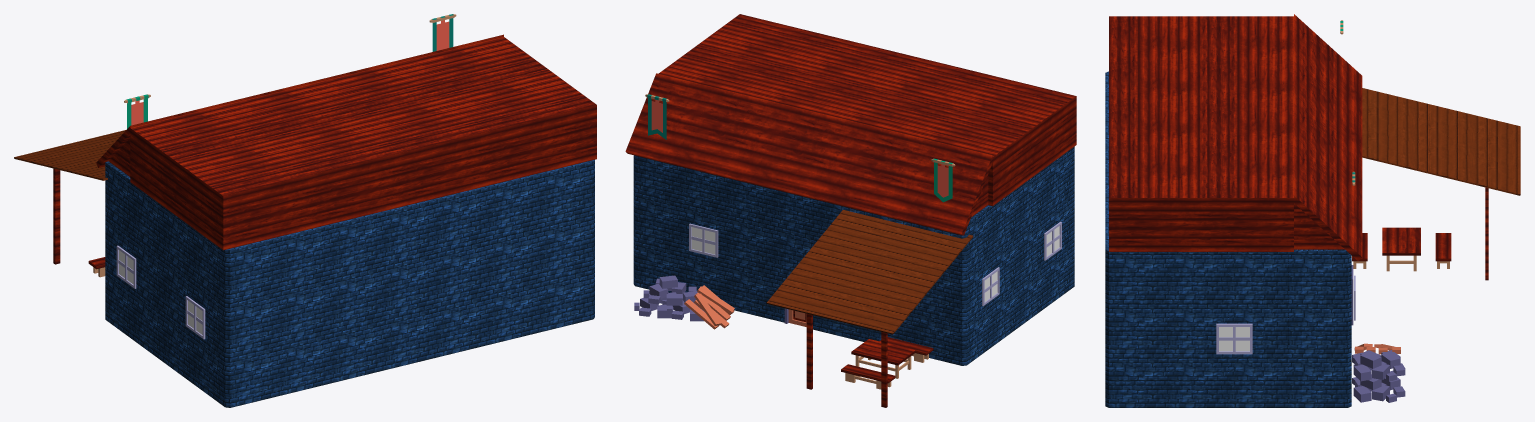
Rendered from House1.glb.
3 views of the same model, side by side, from view 1: azimuth 30°, elevation 25°; view 2: azimuth 150°, elevation 25°; view 3: azimuth 270°, elevation 25° (orthographic). The views are drawn at different scales.
Visible parts, largest first — view 1: wall (×30), block (×2), wall_corner (×3), roof_halfLarge (×2), window_wide (×2), columns_small, banner_green, banner_red; view 2: block (×2), roof_halfLarge (×3), wall (×20), wall_corner (×6), debris_stone (×3), window_wide (×3), furniture_table, debris_wood, furniture_stool (×2), columns_small, banner_green, doorway_doorWoodWindow (+1 smaller); view 3: block (×2), wall (×9), roof_halfLarge (×3), wall_corner (×3), debris_stone (×2), furniture_table, window_wide, furniture_stool.
Boxes of the visible parts, x1=… form: wall (×30): x1=135, y1=159, x2=594, y2=407; block (×2): x1=14, y1=37, x2=596, y2=250; wall_corner (×3): x1=105, y1=161, x2=135, y2=341; roof_halfLarge (×2): x1=96, y1=50, x2=441, y2=176; window_wide (×2): x1=116, y1=245, x2=205, y2=339; columns_small: x1=53, y1=168, x2=60, y2=264; banner_green: x1=429, y1=14, x2=456, y2=51; banner_red: x1=124, y1=94, x2=150, y2=128; block (×2): x1=658, y1=14, x2=1076, y2=334; roof_halfLarge (×3): x1=625, y1=73, x2=992, y2=235; wall (×20): x1=681, y1=146, x2=1074, y2=345; wall_corner (×6): x1=633, y1=155, x2=993, y2=365; debris_stone (×3): x1=634, y1=275, x2=705, y2=321; window_wide (×3): x1=689, y1=221, x2=1061, y2=306; furniture_table: x1=851, y1=339, x2=915, y2=378; debris_wood: x1=684, y1=285, x2=734, y2=329; furniture_stool (×2): x1=841, y1=337, x2=933, y2=389; columns_small: x1=806, y1=314, x2=887, y2=407; banner_green: x1=645, y1=94, x2=669, y2=139; doorway_doorWoodWindow: x1=775, y1=271, x2=821, y2=331; block (×2): x1=1109, y1=16, x2=1520, y2=251; wall (×9): x1=1105, y1=249, x2=1288, y2=407; roof_halfLarge (×3): x1=1294, y1=14, x2=1362, y2=260; wall_corner (×3): x1=1288, y1=249, x2=1351, y2=407; debris_stone (×2): x1=1352, y1=352, x2=1405, y2=402; furniture_table: x1=1382, y1=227, x2=1420, y2=271; window_wide: x1=1216, y1=323, x2=1252, y2=354; furniture_stool: x1=1435, y1=233, x2=1451, y2=268.
Bounding box in the file's own units: 7.28 × 4.1 × 6.96.
103 materials, 76 textured.
